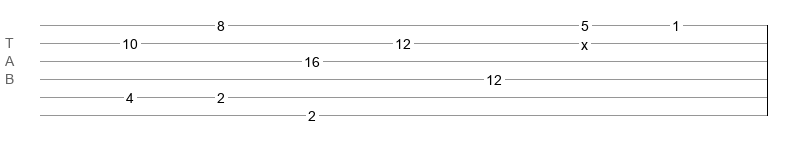1: (672, 18, 680, 28)
10: (122, 36, 138, 46)
12: (395, 36, 411, 46), (486, 72, 502, 82)
16: (304, 54, 320, 64)
2: (217, 90, 225, 100), (308, 108, 316, 118)
4: (126, 90, 134, 100)
5: (581, 18, 589, 28)
8: (217, 18, 225, 28)
x: (581, 37, 588, 45)
